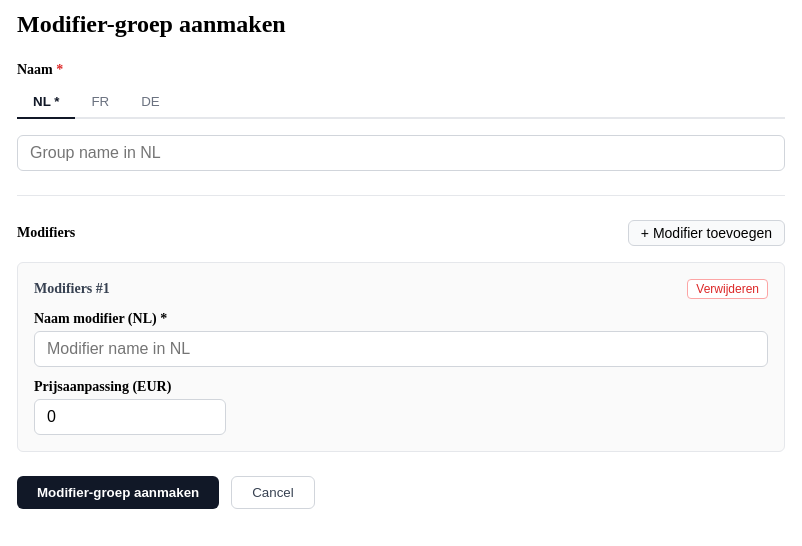
Scenario: ModifierGroupCreate › shows validation error when no NL name entered and save clicked
Expected: the field with placeholder "Group name in NL" is shown, x1=17 y1=135 x2=785 y2=171
Note: Click the submit button without entering a name
Click the button "Modifier-groep aanmaken" at (118, 493), box x1=17 y1=476 x2=219 y2=509
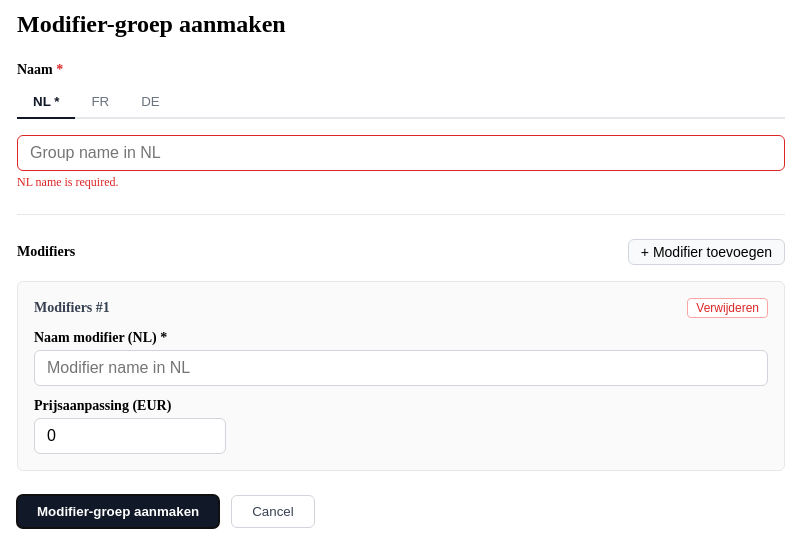
Expected: the text "NL name is required." is shown, x1=17 y1=175 x2=118 y2=189
